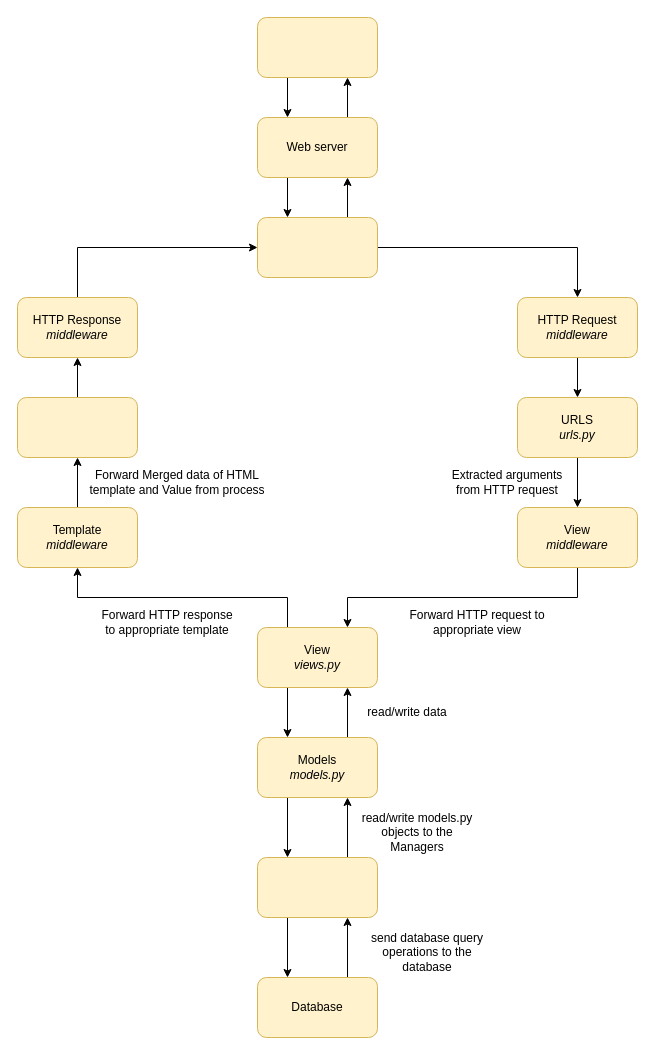
Some shapes in this 655 by 1055 pixel diagram are drawn without their labels. The centre of each missing label's shape, as x and y in pixels:
Client (browser): the point at 317,47
Managers: the point at 317,887
Template main.html: the point at 77,427
WSGI wsgi.py: the point at 317,247
